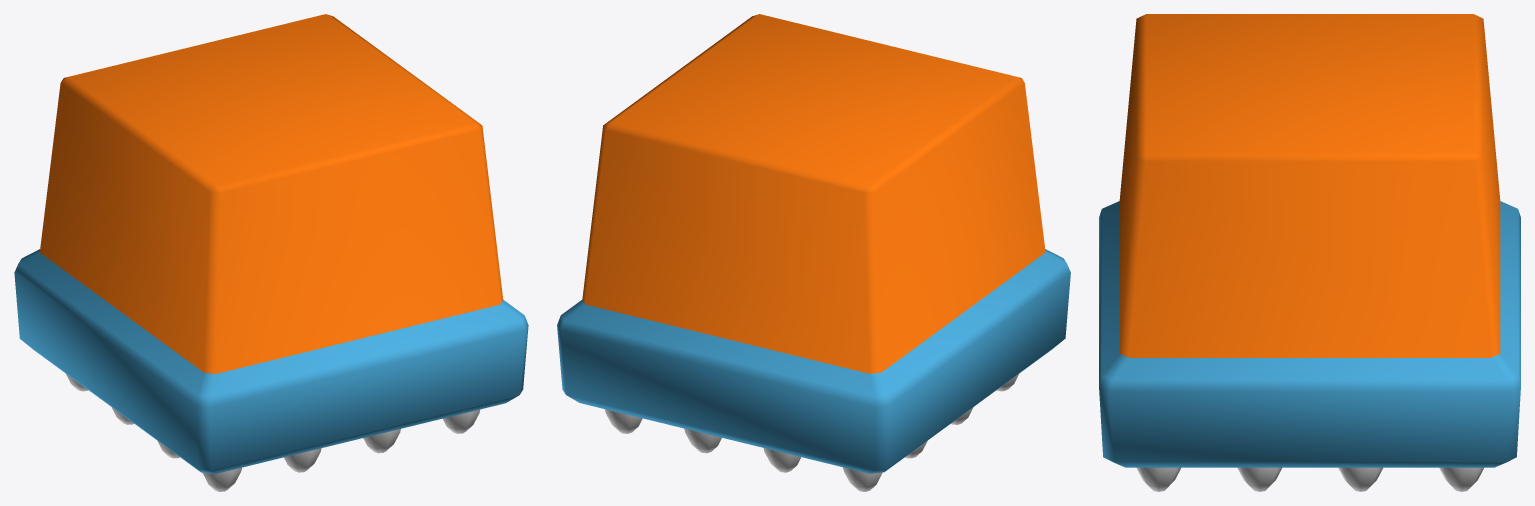
The model's file is Crasher_02.fbx.
The picture shows the model from 3 angles, left to right: view 1: azimuth 30°, elevation 25°; view 2: azimuth 150°, elevation 25°; view 3: azimuth 270°, elevation 25°; orthographic projection. The views are drawn at different scales.
Visible parts, largest first — view 1: Obstacle_Crasher_02; view 2: Obstacle_Crasher_02; view 3: Obstacle_Crasher_02.
Part boxes in pixels (box(x1,y1,x2,y2)): Obstacle_Crasher_02: box(14, 14, 528, 491); Obstacle_Crasher_02: box(557, 14, 1070, 491); Obstacle_Crasher_02: box(1099, 14, 1520, 491).
Bounding box in the file's own units: 102 × 91.45 × 102.
Materials: 1 (1 with a texture image).
